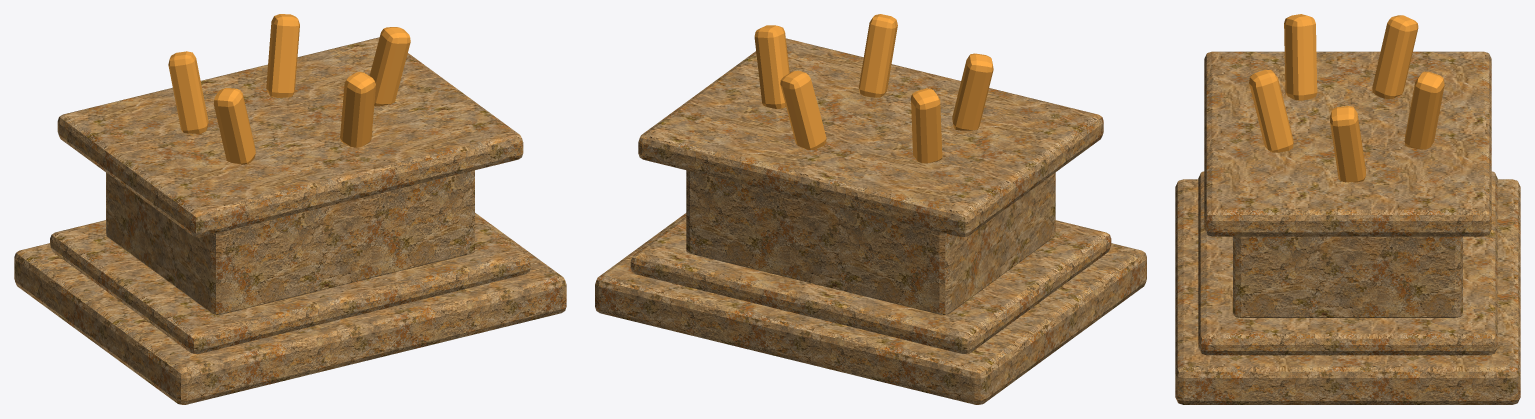
File: Autumn_OfferingShrine.fbx
3 views of the same model, side by side, from view 1: azimuth 30°, elevation 25°; view 2: azimuth 150°, elevation 25°; view 3: azimuth 270°, elevation 25° (orthographic). The views are drawn at different scales.
Visible parts, largest first — view 1: Shrine_Stone.003, Shrine_Stone, Shrine_Stone.002, Shrine_Stone.001, Shrine_Crystal.001, Shrine_Crystal.002, Shrine_Crystal.003, Shrine_Crystal.004, Shrine_Crystal; view 2: Shrine_Stone.003, Shrine_Stone.002, Shrine_Stone, Shrine_Stone.001, Shrine_Crystal.001, Shrine_Crystal.004, Shrine_Crystal, Shrine_Crystal.003, Shrine_Crystal.002; view 3: Shrine_Stone.003, Shrine_Stone, Shrine_Stone.002, Shrine_Stone.001, Shrine_Crystal.003, Shrine_Crystal.002, Shrine_Crystal.004, Shrine_Crystal.001, Shrine_Crystal.
Part boxes in pixels (bbox=[...]): Shrine_Stone.003: bbox=[57, 37, 523, 237]; Shrine_Stone: bbox=[14, 213, 566, 404]; Shrine_Stone.002: bbox=[106, 170, 474, 314]; Shrine_Stone.001: bbox=[50, 216, 530, 353]; Shrine_Crystal.001: bbox=[266, 14, 299, 97]; Shrine_Crystal.002: bbox=[168, 51, 208, 133]; Shrine_Crystal.003: bbox=[214, 88, 255, 164]; Shrine_Crystal.004: bbox=[340, 72, 375, 147]; Shrine_Crystal: bbox=[369, 27, 410, 106]; Shrine_Stone.003: bbox=[638, 38, 1103, 237]; Shrine_Stone.002: bbox=[686, 170, 1055, 314]; Shrine_Stone: bbox=[595, 213, 1146, 404]; Shrine_Stone.001: bbox=[630, 216, 1111, 353]; Shrine_Crystal.001: bbox=[780, 70, 826, 149]; Shrine_Crystal.004: bbox=[858, 14, 897, 97]; Shrine_Crystal: bbox=[754, 25, 789, 108]; Shrine_Crystal.003: bbox=[952, 53, 993, 130]; Shrine_Crystal.002: bbox=[911, 88, 942, 163]; Shrine_Stone.003: bbox=[1204, 51, 1491, 236]; Shrine_Stone: bbox=[1175, 179, 1520, 404]; Shrine_Stone.002: bbox=[1233, 236, 1462, 317]; Shrine_Stone.001: bbox=[1198, 171, 1497, 355]; Shrine_Crystal.003: bbox=[1284, 14, 1317, 100]; Shrine_Crystal.002: bbox=[1372, 15, 1418, 99]; Shrine_Crystal.004: bbox=[1249, 69, 1293, 152]; Shrine_Crystal.001: bbox=[1404, 71, 1444, 149]; Shrine_Crystal: bbox=[1330, 106, 1365, 182].
Bounding box in the file's own units: 400 × 243 × 300.
